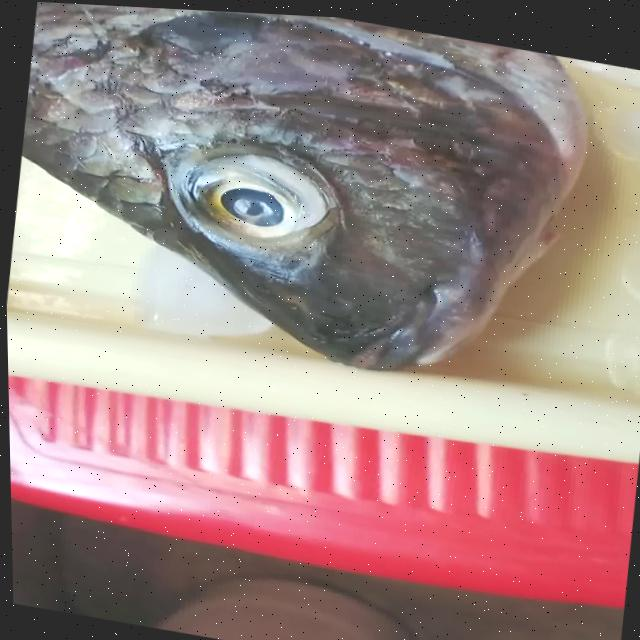Fresh: (154, 132, 352, 262)
